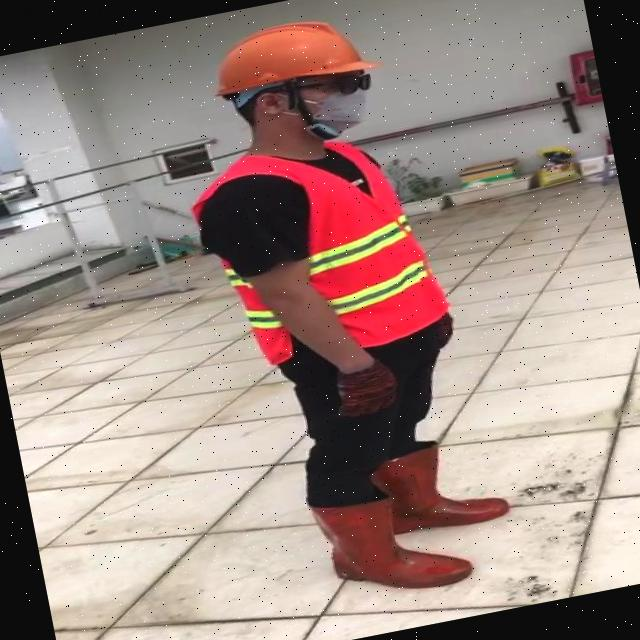boots: (310, 476, 476, 608), (364, 434, 512, 542)
